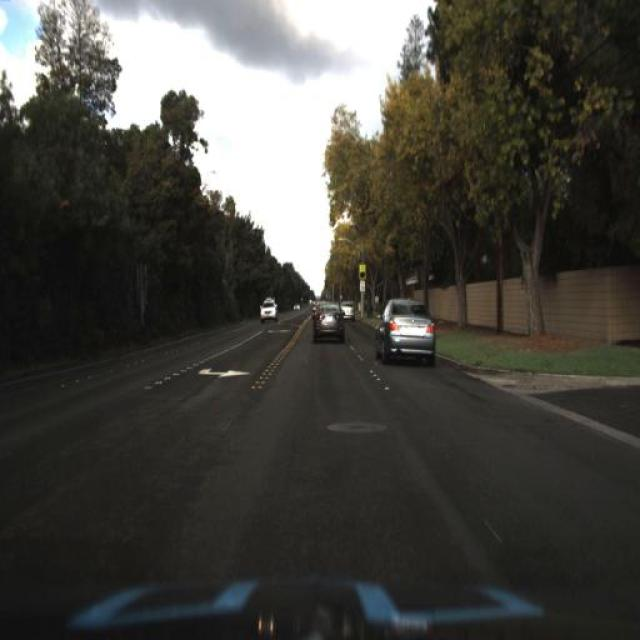car: (368, 293, 448, 367), (308, 299, 349, 349), (255, 294, 284, 324), (337, 295, 355, 323)
